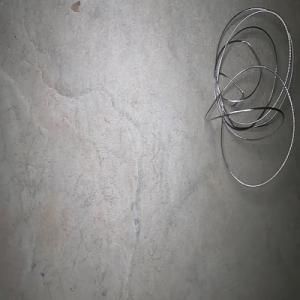Wire: (203, 7, 295, 187)
